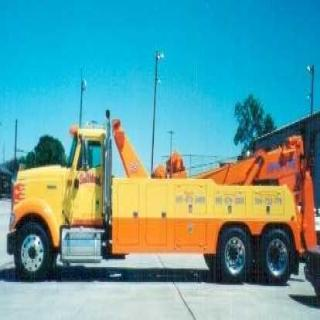Towing_truck: (6, 107, 317, 285)
